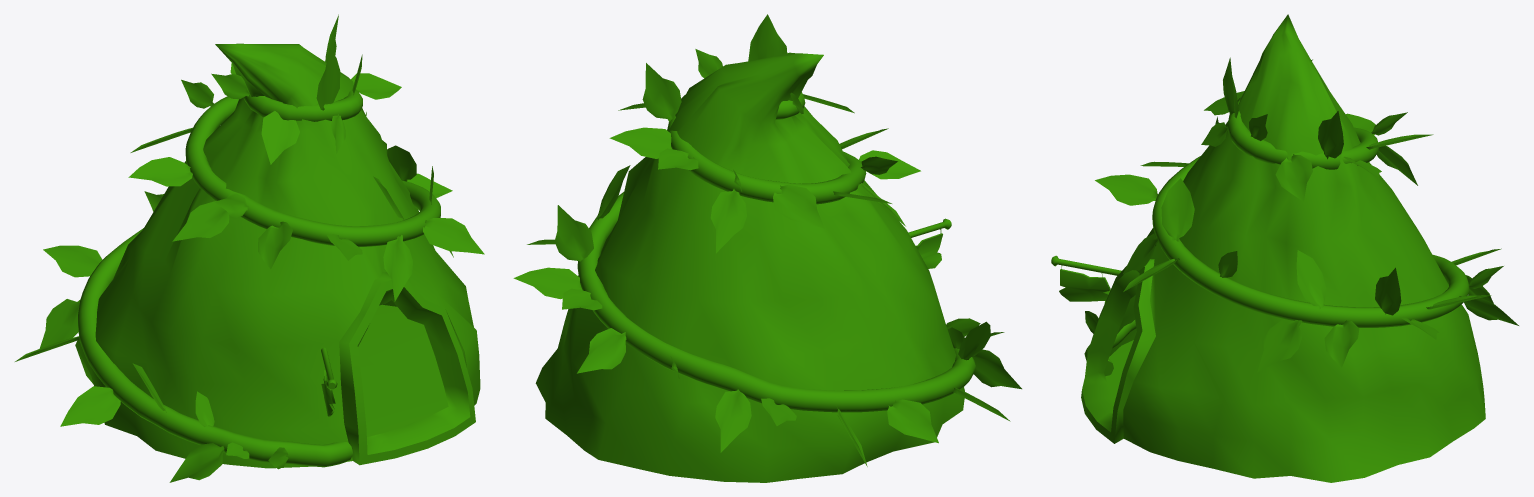
Rendered from HubExterior.FBX.
3 renders of one model, left to right at view 1: azimuth 30°, elevation 25°; view 2: azimuth 150°, elevation 25°; view 3: azimuth 270°, elevation 25°, orthographic. The views are drawn at different scales.
Parts seen in each view (by area): view 1: Cylinder001; view 2: Cylinder001; view 3: Cylinder001.
Boxes of the visible parts, box(x1,y1,x2,y2) form: Cylinder001: box(15, 14, 484, 482); Cylinder001: box(513, 14, 1021, 482); Cylinder001: box(1051, 14, 1518, 482).
Bounding box in the file's own units: 150 × 118 × 143.
